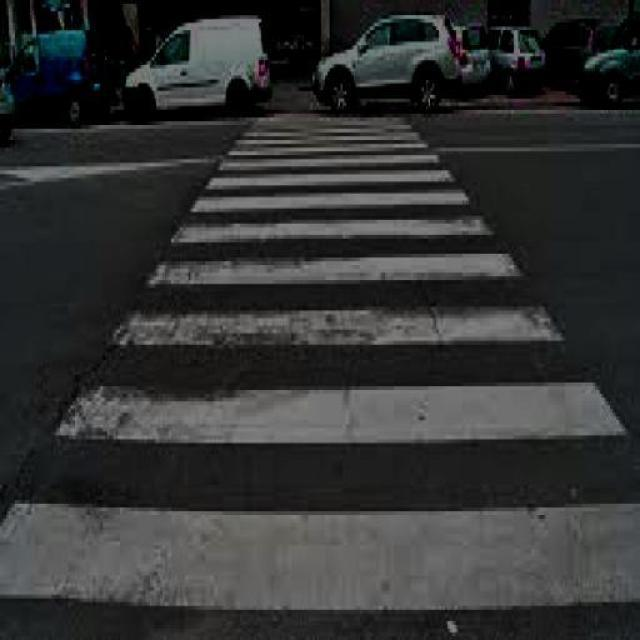crosswalk: (1, 118, 640, 607)
